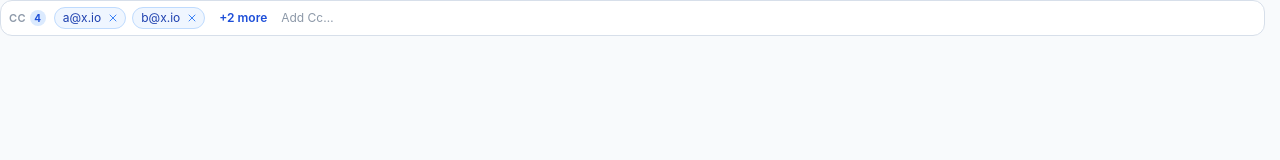
Test: CcChips › collapseAfter folds the extra chips behind a +N more button
Check: the text "a@x.io" is shown, box [63, 10, 101, 26]
Check: the text "c@x.io" is not shown
Click the button "+2 more" at (243, 18), box [211, 8, 275, 28]
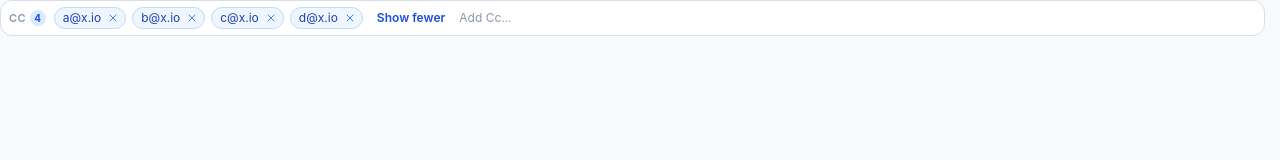
Check: the text "d@x.io" is shown, box [299, 10, 338, 26]
Click the button "Show fewer" at (411, 18), box [369, 8, 453, 28]
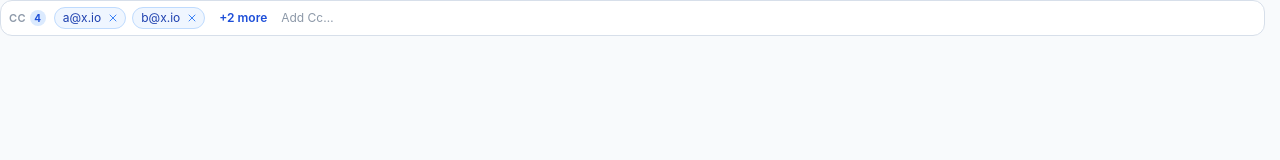
Check: the text "d@x.io" is gone
